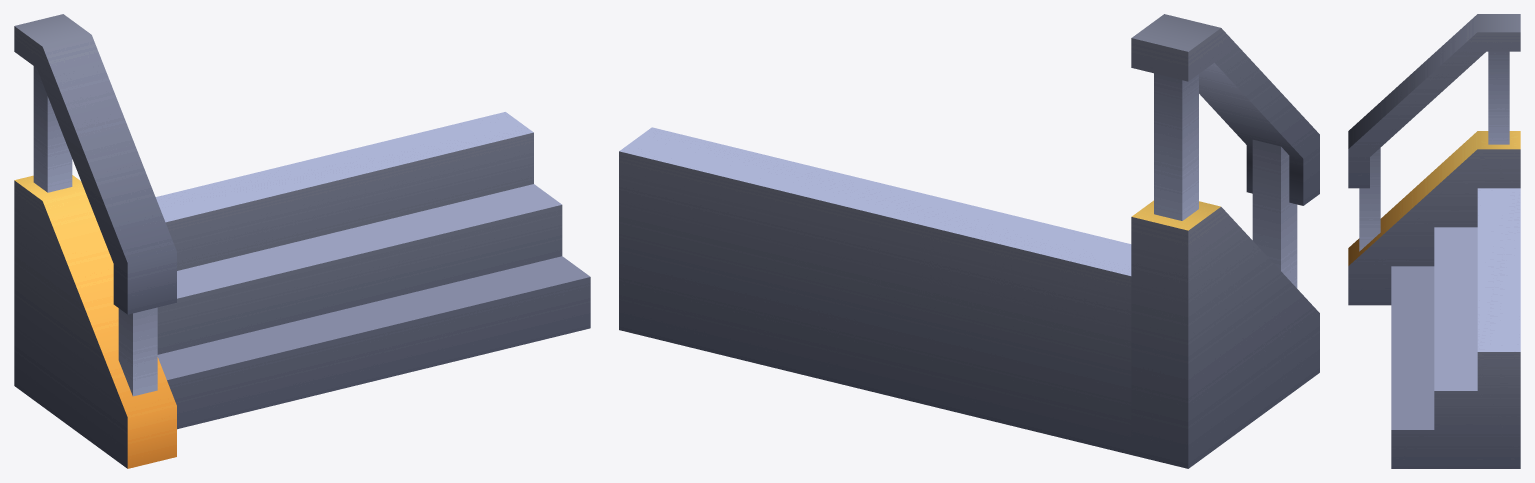
Rendered from stairs-small-edge-handrail.glb.
3 views of the same model, side by side, from view 1: azimuth 30°, elevation 25°; view 2: azimuth 150°, elevation 25°; view 3: azimuth 270°, elevation 25° (orthographic). The views are drawn at different scales.
Parts seen in each view (by area): view 1: stairs-small-edge-handrail; view 2: stairs-small-edge-handrail; view 3: stairs-small-edge-handrail.
Boxes of the visible parts, x1,y1,x2,y2 form: stairs-small-edge-handrail: (14,14,590,468); stairs-small-edge-handrail: (619,14,1319,468); stairs-small-edge-handrail: (1348,14,1520,468).
Size of the model in its own units: 1 by 0.7 by 0.4.
1 material, 1 textured.
